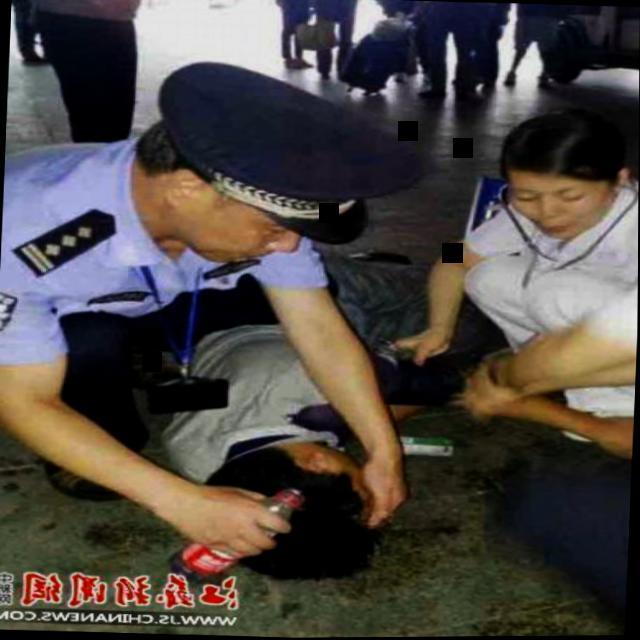Fall-Detected: (148, 213, 479, 602)
